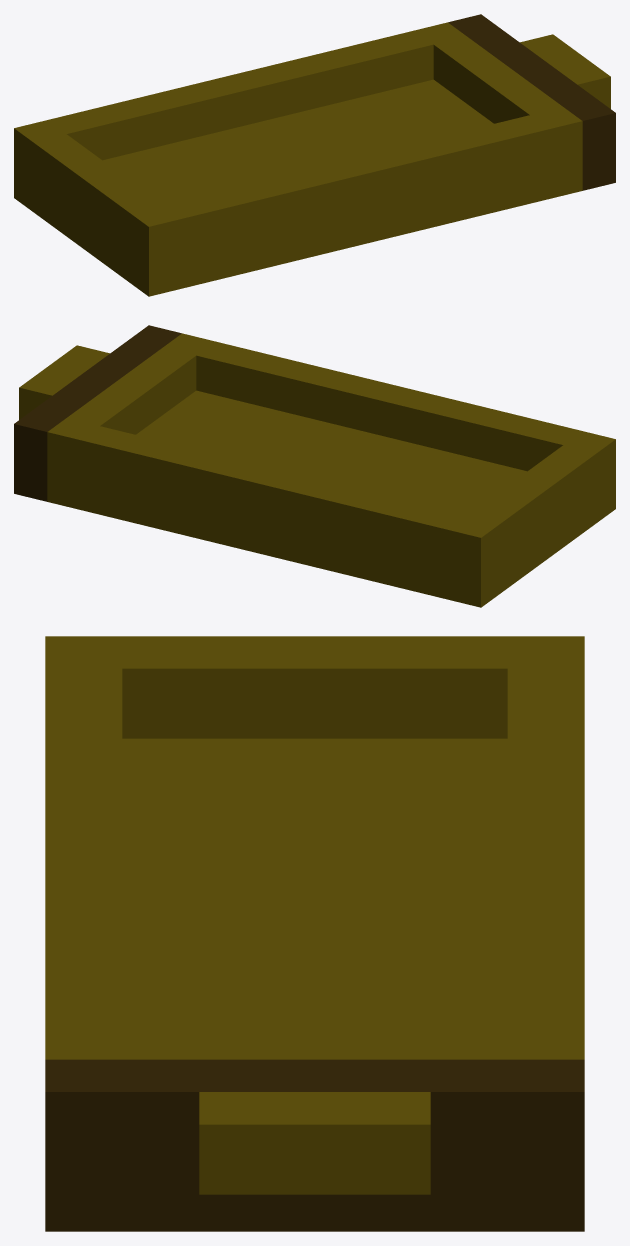
The model's file is Desk00-Drawer.gltf.
The picture shows the model from 3 angles, top to bottom: view 1: azimuth 30°, elevation 25°; view 2: azimuth 150°, elevation 25°; view 3: azimuth 270°, elevation 25°; orthographic projection. The views are drawn at different scales.
Visible parts, largest first — view 1: Layer.3; view 2: Layer.3; view 3: Layer.3.
Part boxes in pixels (x1,y1,x2,y2): Layer.3: [14, 14, 615, 296]; Layer.3: [14, 325, 615, 607]; Layer.3: [45, 636, 584, 1231].
Size of the model in its own units: 15 by 2 by 7.
